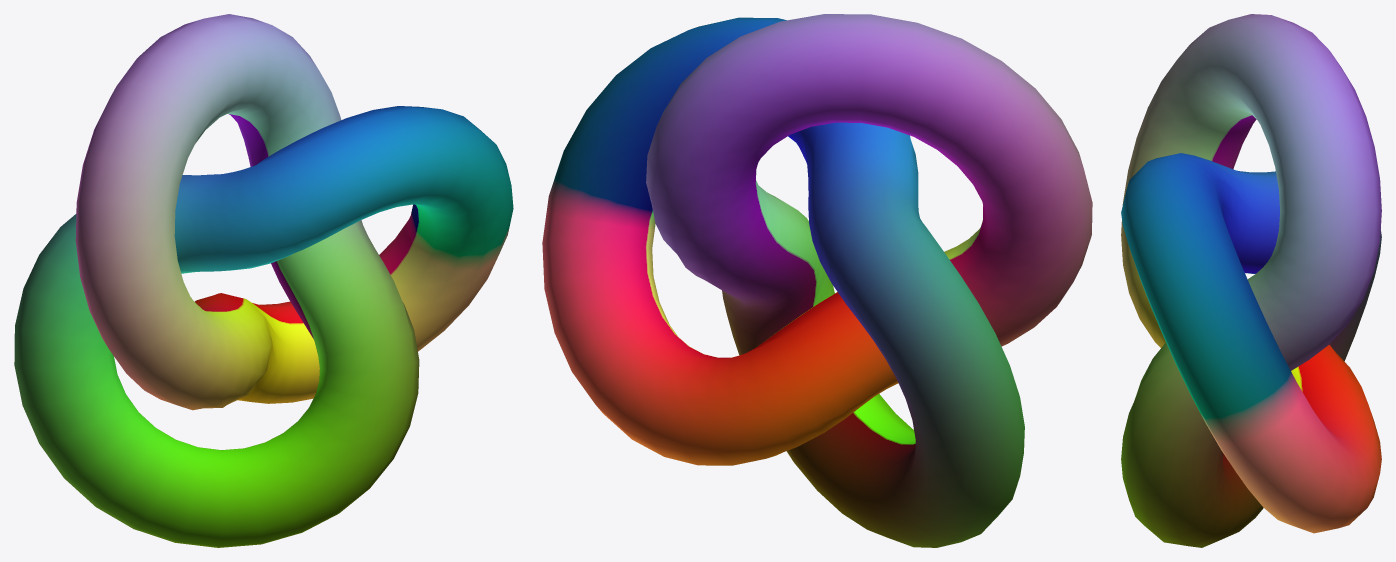
The model's file is demo.glb.
3 views of the same model, side by side, from view 1: azimuth 30°, elevation 25°; view 2: azimuth 150°, elevation 25°; view 3: azimuth 270°, elevation 25° (orthographic). The views are drawn at different scales.
Bounding box in the file's own units: 3.32 × 3.45 × 1.64.
1 material, 1 textured.
